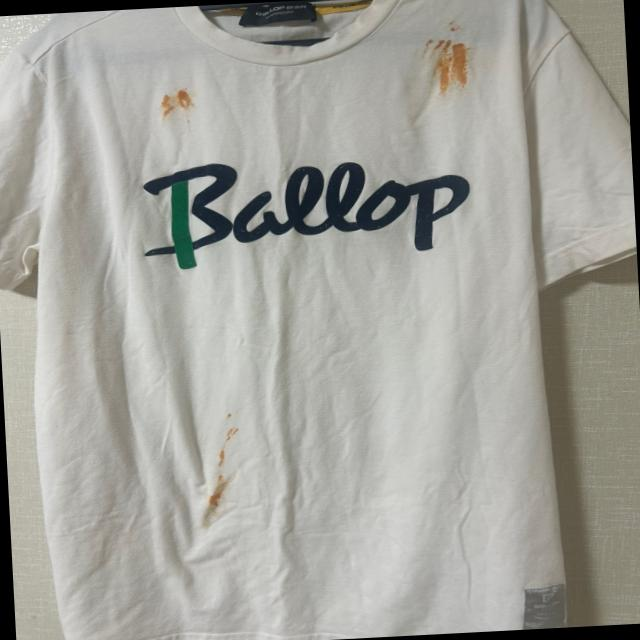stain: (416, 38, 481, 102), (213, 414, 243, 468), (154, 88, 198, 120), (208, 472, 238, 514), (439, 15, 466, 38)
